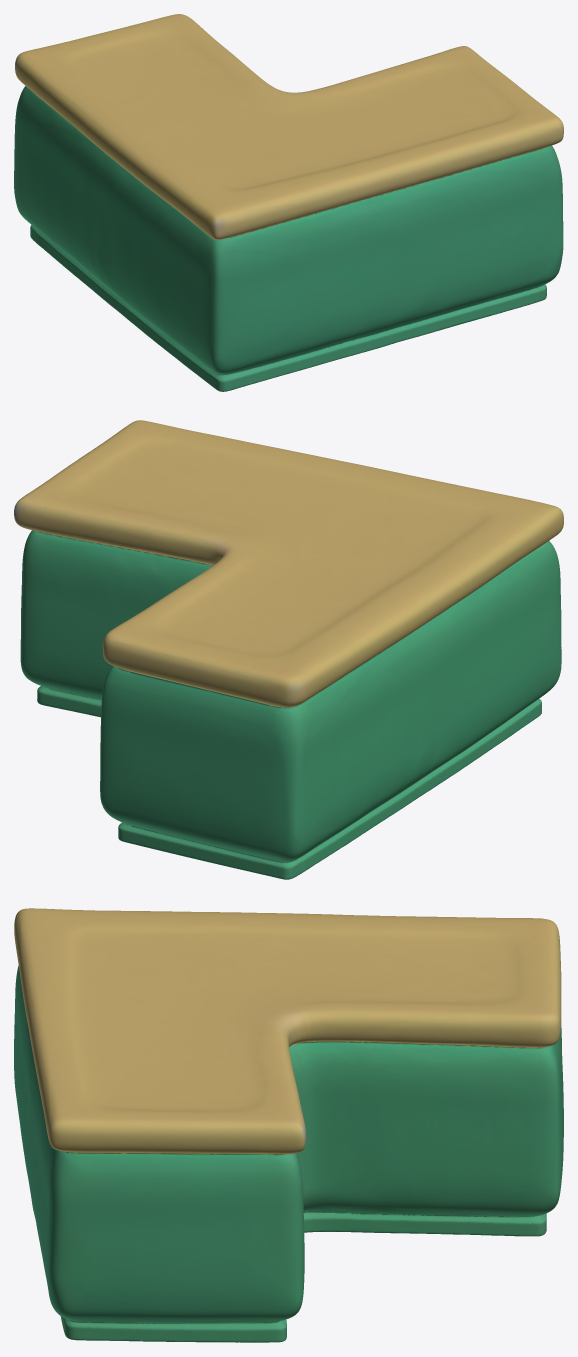
File: Mod_Corner.glb
The picture shows the model from 3 angles, top to bottom: view 1: azimuth 30°, elevation 25°; view 2: azimuth 150°, elevation 25°; view 3: azimuth 270°, elevation 25°; orthographic projection. The views are drawn at different scales.
Parts seen in each view (by area): view 1: tripo_node_114b152f-ae68-4593-9f9c-ddc5f6d79f07; view 2: tripo_node_114b152f-ae68-4593-9f9c-ddc5f6d79f07; view 3: tripo_node_114b152f-ae68-4593-9f9c-ddc5f6d79f07.
Part boxes in pixels (x1,y1,x2,y2): tripo_node_114b152f-ae68-4593-9f9c-ddc5f6d79f07: (14,14,563,391); tripo_node_114b152f-ae68-4593-9f9c-ddc5f6d79f07: (14,420,563,879); tripo_node_114b152f-ae68-4593-9f9c-ddc5f6d79f07: (14,908,563,1342).
Bounding box in the file's own units: 0.9575 × 0.451 × 1.
1 material, 1 textured.
